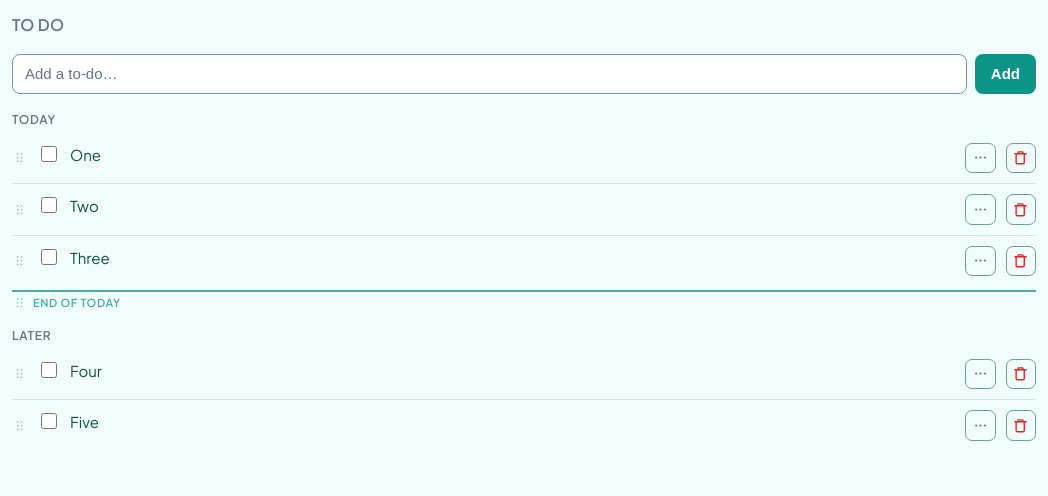
Test: TodoSection — move a to-do across the Today line (50-B) › a failed line write reverts the reorder too, and says so once
This screenshot has width=1048, height=496.
Expected: the button "One" is shown, [70,143,955,167]
Click the button named "Actions for \"One\"" at (980, 158), box [965,143,996,173]
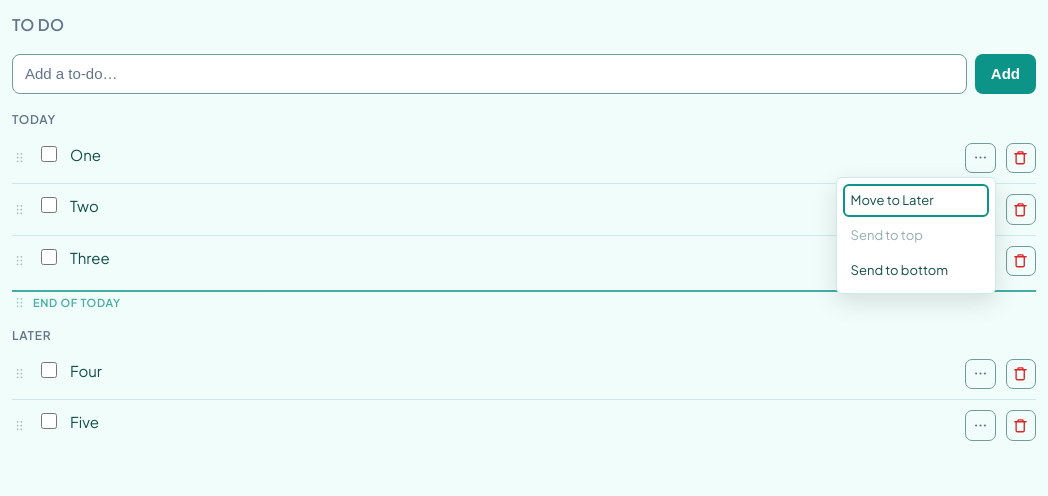
Click the menu item "Move to Later" at (916, 201), box [843,184,989,217]
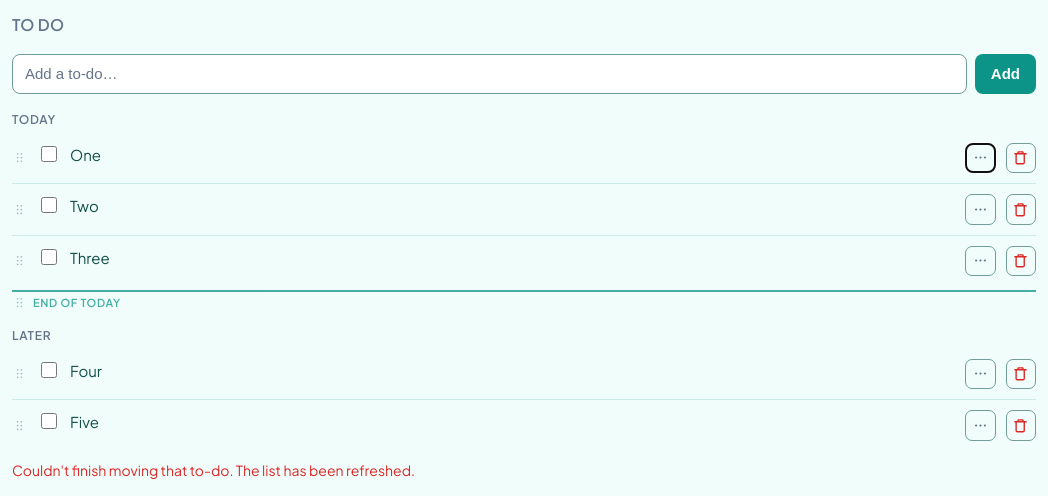
Expected: the button "One" is shown, [70,143,955,167]
Now the message shows "Couldn't finish moving", box [12,460,415,478]
Now the number of messages is 1, box [12,460,415,478]
